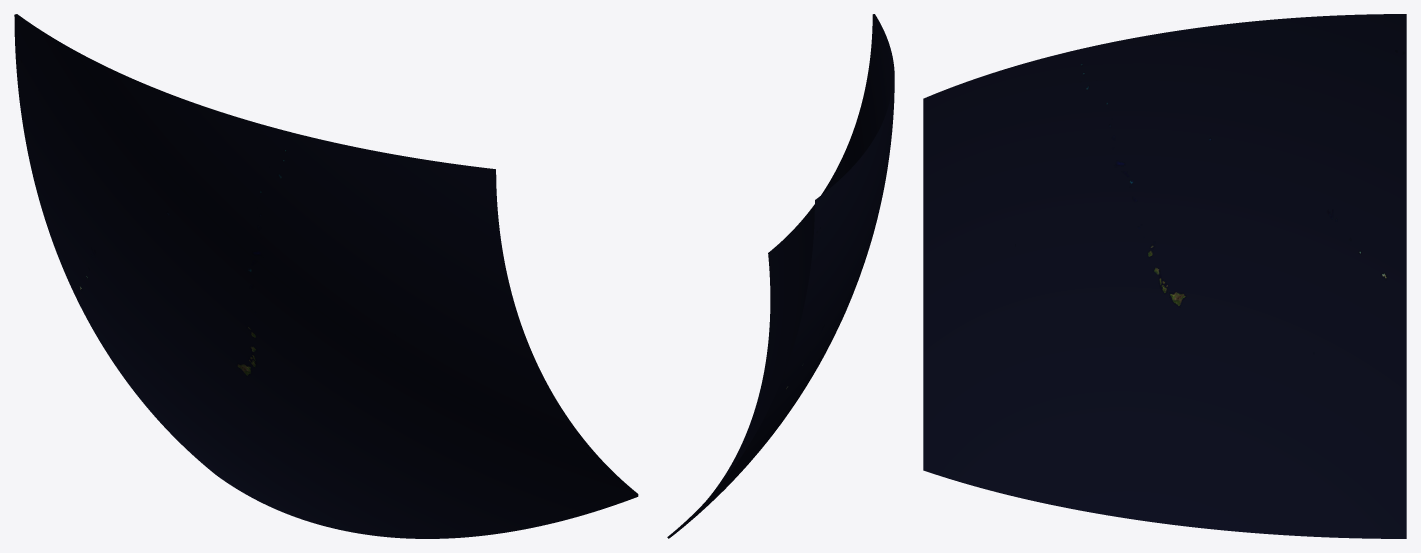
3 renders of one model, left to right at view 1: azimuth 30°, elevation 25°; view 2: azimuth 150°, elevation 25°; view 3: azimuth 270°, elevation 25°, orthographic. The views are drawn at different scales.
Parts seen in each view (by area): view 1: DefaultName.001, DefaultName.007, DefaultName.003, DefaultName.005; view 2: DefaultName.007, DefaultName.003, DefaultName.001, DefaultName.005; view 3: DefaultName.005, DefaultName.007, DefaultName.003, DefaultName.001.
Boxes of the visible parts, x1,y1,x2,y2 form: DefaultName.001: (218,111,532,366); DefaultName.007: (14,14,266,355); DefaultName.003: (266,355,638,538); DefaultName.005: (67,278,403,538); DefaultName.007: (776,109,889,393); DefaultName.003: (751,150,852,420); DefaultName.001: (845,14,894,212); DefaultName.005: (667,319,842,538); DefaultName.005: (1145,274,1406,538); DefaultName.007: (1145,14,1406,276); DefaultName.003: (923,276,1146,520); DefaultName.001: (923,36,1146,282).
Size of the model in its own units: 31962 by 45100 by 44873.
Materials: 4 (4 with a texture image).
